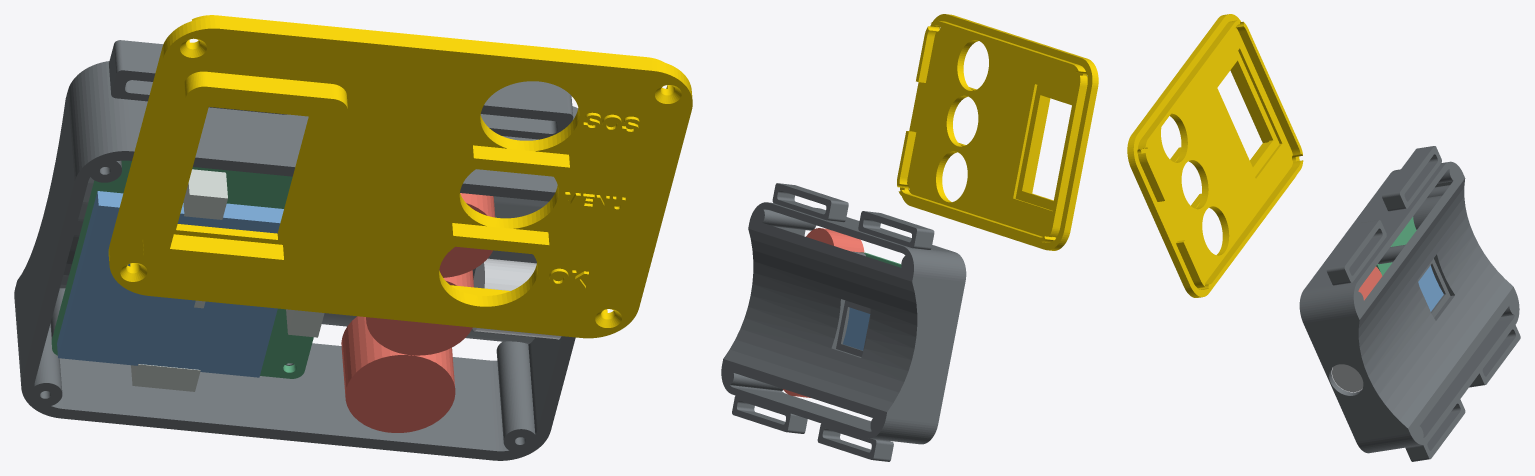
The model's file is pod_cuff.glb.
3 views of the same model, side by side, from view 1: azimuth 30°, elevation 25°; view 2: azimuth 150°, elevation 25°; view 3: azimuth 270°, elevation 25° (orthographic). The views are drawn at different scales.
Visible parts, largest first — view 1: cuff_lid, cuff_base, cuff_modules, button_ok, cuff_pcb, cuff_parts, button_menu, gx12_socket, button_sos; view 2: cuff_base, cuff_lid, cuff_modules, button_sos; view 3: cuff_base, cuff_lid, gx12_socket, cuff_modules, cuff_pcb.
Part boxes in pixels (bbox=[...]): cuff_lid: bbox=[108, 15, 692, 338]; cuff_base: bbox=[14, 40, 577, 460]; cuff_modules: bbox=[57, 191, 283, 377]; button_ok: bbox=[341, 316, 455, 432]; cuff_pcb: bbox=[51, 160, 313, 378]; cuff_parts: bbox=[131, 169, 324, 391]; button_menu: bbox=[366, 270, 473, 355]; gx12_socket: bbox=[472, 258, 561, 339]; button_sos: bbox=[439, 193, 495, 277]; cuff_base: bbox=[721, 183, 966, 461]; cuff_lid: bbox=[897, 14, 1098, 250]; cuff_modules: bbox=[843, 307, 870, 350]; button_sos: bbox=[806, 228, 864, 252]; cuff_base: bbox=[1299, 146, 1520, 461]; cuff_lid: bbox=[1127, 14, 1303, 297]; gx12_socket: bbox=[1332, 364, 1363, 392]; cuff_modules: bbox=[1418, 265, 1443, 311]; cuff_pcb: bbox=[1376, 217, 1416, 275].
Size of the model in its own units: 104 by 120 by 128.
